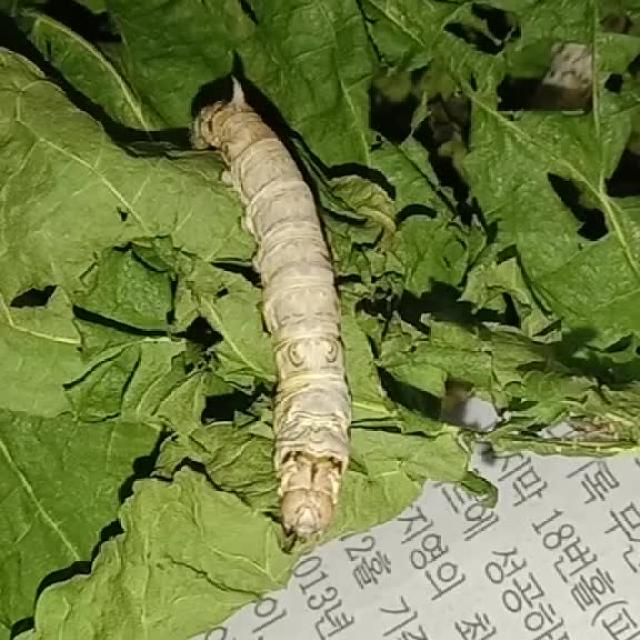Grasserie: (184, 69, 374, 543)
